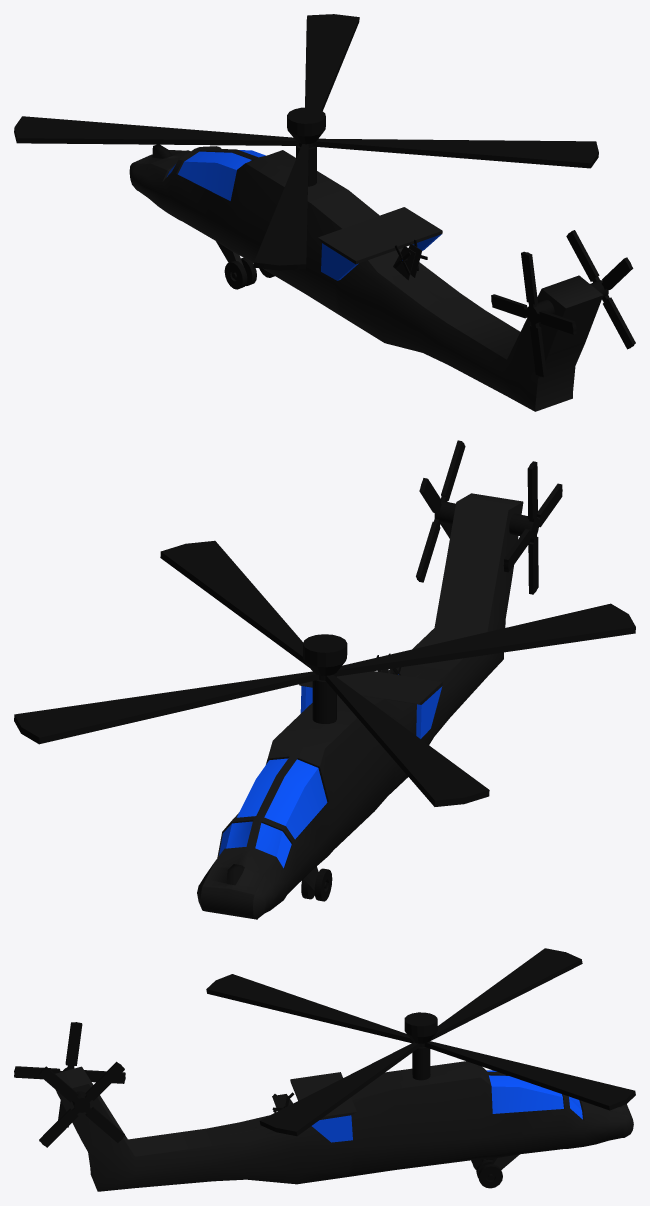
File: Chopper 1.FBX
The picture shows the model from 3 angles, top to bottom: view 1: azimuth 30°, elevation 25°; view 2: azimuth 150°, elevation 25°; view 3: azimuth 270°, elevation 25°; orthographic projection. The views are drawn at different scales.
Parts seen in each view (by area): view 1: HELICOPTERO003, Helice Central001, Helice Trasera002, Helice Trasera003; view 2: HELICOPTERO003, Helice Central001, Helice Trasera002, Helice Trasera003; view 3: HELICOPTERO003, Helice Central001, Helice Trasera003, Helice Trasera002, Rueda 008.
Boxes of the visible parts, <box> form: HELICOPTERO003: <box>129,144,603,411</box>; Helice Central001: <box>14,14,598,270</box>; Helice Trasera002: <box>491,251,576,377</box>; Helice Trasera003: <box>566,230,635,349</box>; HELICOPTERO003: <box>197,493,523,919</box>; Helice Central001: <box>14,540,635,806</box>; Helice Trasera002: <box>503,461,562,594</box>; Helice Trasera003: <box>416,440,465,582</box>; HELICOPTERO003: <box>55,1061,633,1191</box>; Helice Central001: <box>206,948,635,1136</box>; Helice Trasera003: <box>38,1061,125,1147</box>; Helice Trasera002: <box>14,1022,125,1127</box>; Rueda 008: <box>478,1164,502,1188</box>.
Size of the model in its own units: 23.04 by 9.93 by 33.4.
